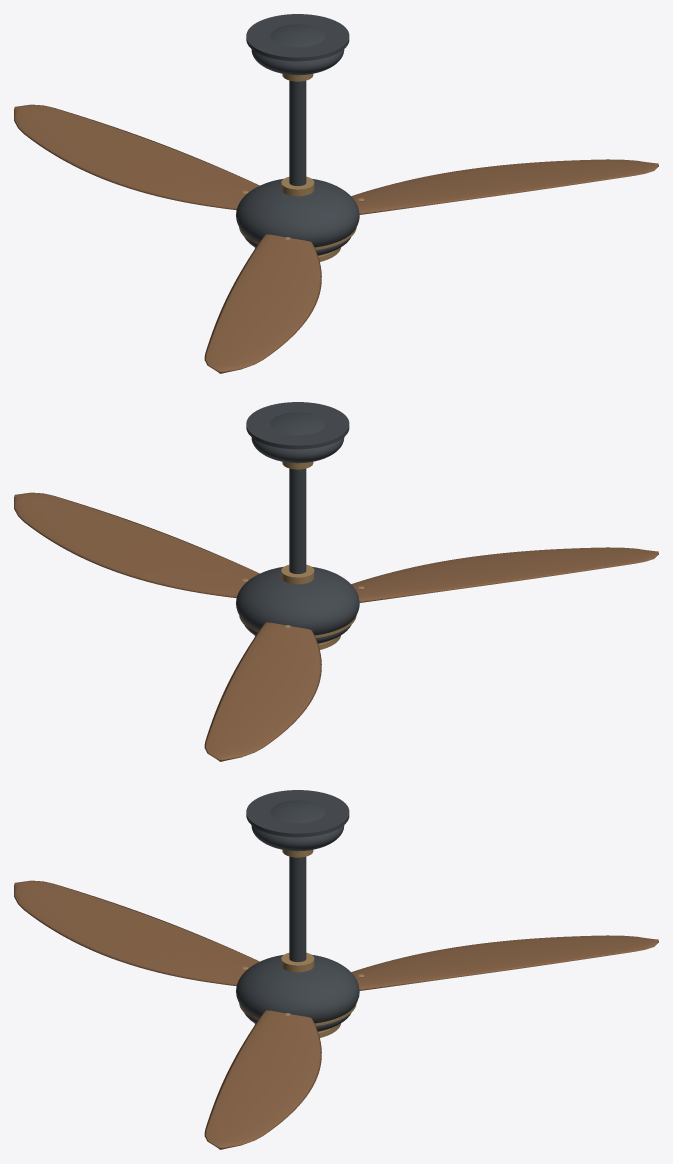
The model's file is Ceiling Fan.glb.
3 renders of one model, top to bottom at view 1: azimuth 30°, elevation 25°; view 2: azimuth 150°, elevation 25°; view 3: azimuth 270°, elevation 25°, orthographic.
Visible parts, largest first — view 1: Ceiling_Fan; view 2: Ceiling_Fan; view 3: Ceiling_Fan.
Part boxes in pixels (left/top/right/bottom): Ceiling_Fan: left=14, top=14, right=658, bottom=373; Ceiling_Fan: left=14, top=402, right=658, bottom=761; Ceiling_Fan: left=14, top=790, right=658, bottom=1149.
Bounding box in the file's own units: 122 × 46.9 × 125.
